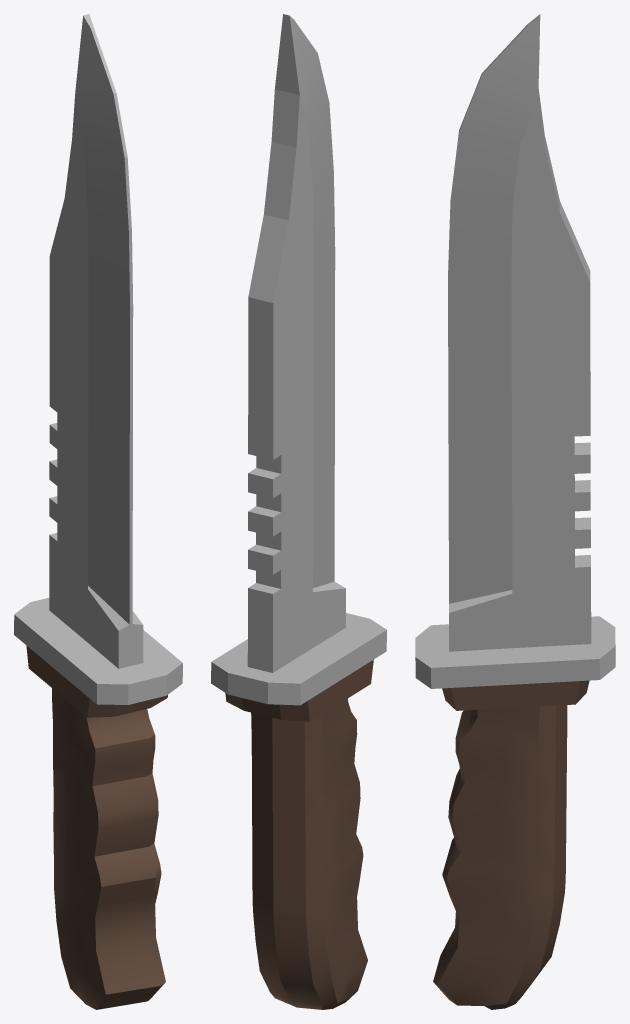
Rendered from Knife.fbx.
The picture shows the model from 3 angles, left to right: view 1: azimuth 30°, elevation 25°; view 2: azimuth 150°, elevation 25°; view 3: azimuth 270°, elevation 25°; orthographic projection. The views are drawn at different scales.
Visible parts, largest first — view 1: knife; view 2: knife; view 3: knife.
Part boxes in pixels (x1=…): knife: x1=14, y1=14, x2=182, y2=1009; knife: x1=211, y1=14, x2=386, y2=1009; knife: x1=415, y1=14, x2=615, y2=1009.
Size of the model in its own units: 47.03 by 506 by 93.19.
